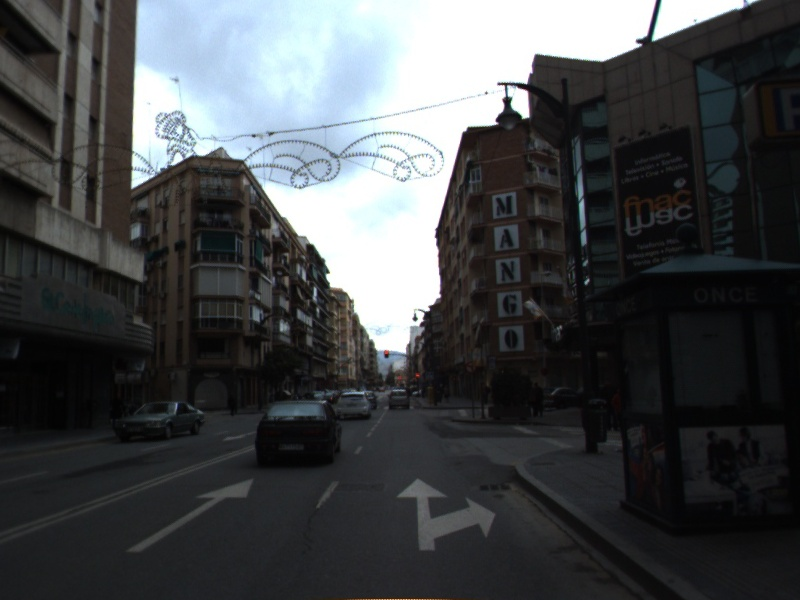STRAIGHT: (123, 476, 255, 554)
STRAIGHT_RIGHT: (395, 476, 498, 553)
